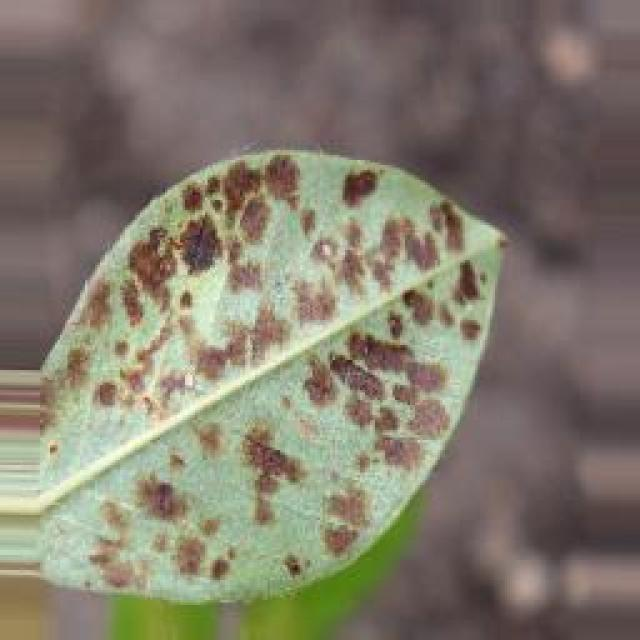Whitefly: (0, 156, 546, 592)
